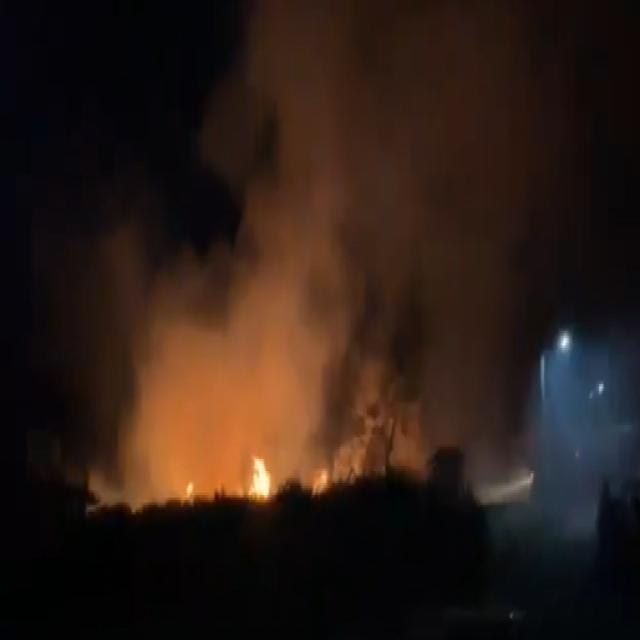Fire: (225, 445, 297, 502)
Smoke: (213, 78, 400, 448), (126, 316, 262, 474)
